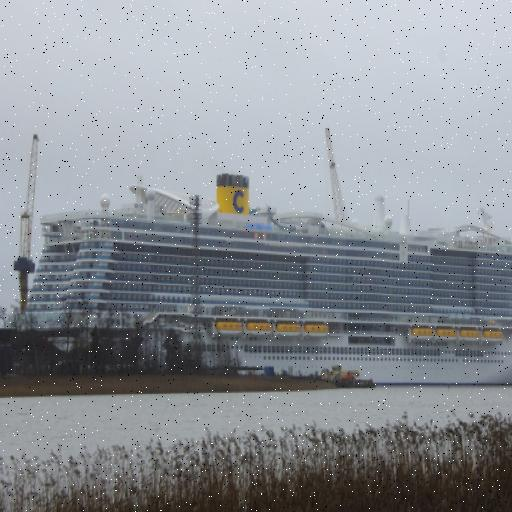cruises: (16, 169, 512, 397)
